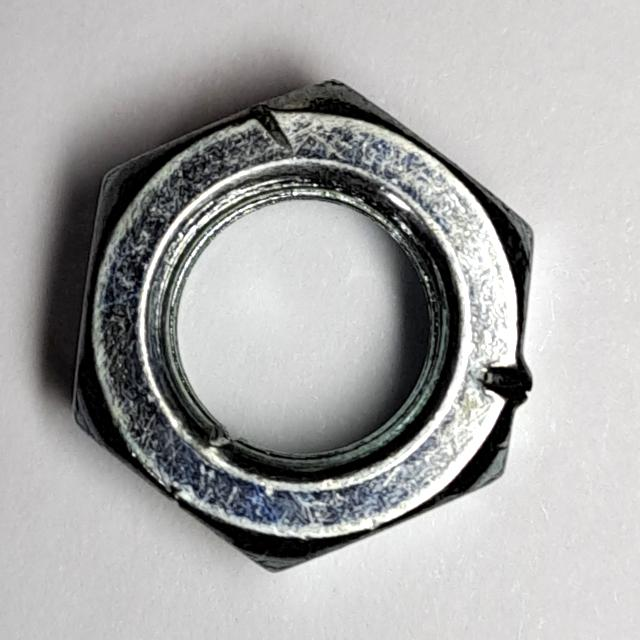Scratches: (64, 68, 550, 590)
